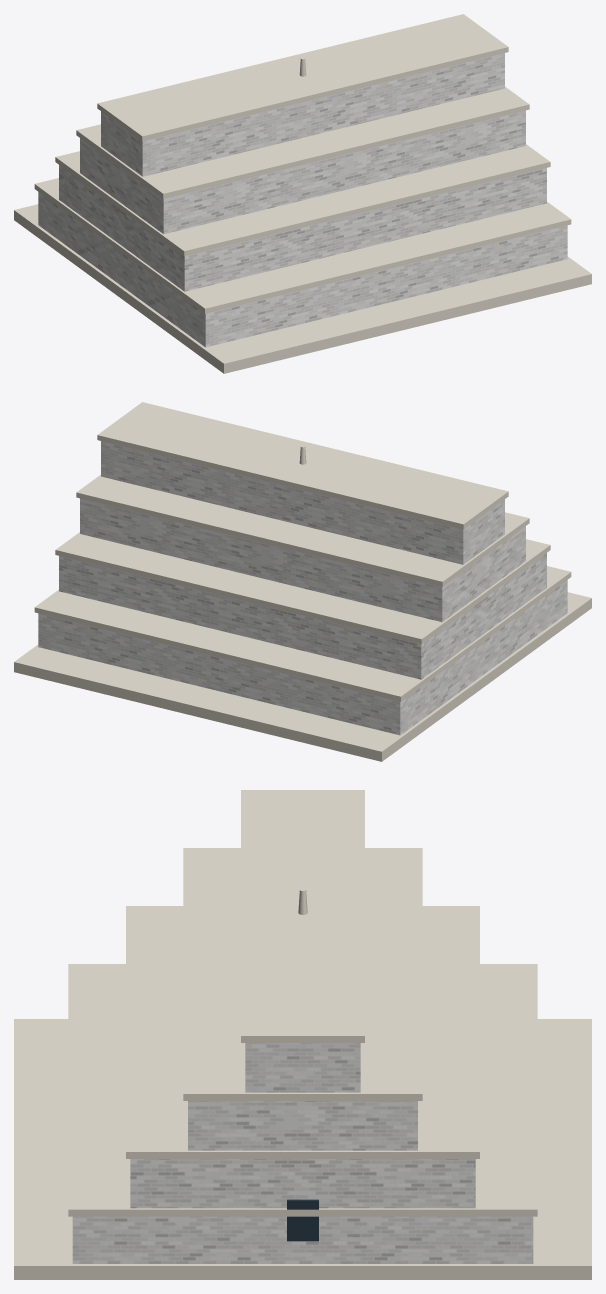
The model's file is roof-step-9.obj.
3 renders of one model, top to bottom at view 1: azimuth 30°, elevation 25°; view 2: azimuth 150°, elevation 25°; view 3: azimuth 270°, elevation 25°, orthographic. The views are drawn at different scales.
Visible parts, largest first — view 1: part9.nocast, part2, part4, part6, part1.nocast, part8, part3.nocast, part5.nocast, part7.nocast; view 2: part9.nocast, part2, part4, part6, part1.nocast, part8, part3.nocast, part5.nocast, part7.nocast; view 3: part1.nocast, part3.nocast, part5.nocast, part9.nocast, part7.nocast, part2, part4, part6, part8, part10.nocast.
Boxes of the visible parts, <box> form: part9.nocast: <box>97,14,508,141</box>; part2: <box>38,192,567,347</box>; part4: <box>59,165,546,291</box>; part6: <box>80,110,525,234</box>; part1.nocast: <box>14,204,591,373</box>; part8: <box>101,53,504,176</box>; part3.nocast: <box>34,178,571,313</box>; part5.nocast: <box>55,144,550,256</box>; part7.nocast: <box>76,87,529,198</box>; part9.nocast: <box>97,402,508,529</box>; part2: <box>38,580,567,735</box>; part4: <box>59,553,546,679</box>; part6: <box>80,498,525,622</box>; part1.nocast: <box>14,592,591,761</box>; part8: <box>101,441,504,564</box>; part3.nocast: <box>34,566,571,701</box>; part5.nocast: <box>55,532,550,644</box>; part7.nocast: <box>76,475,529,586</box>; part1.nocast: <box>14,1019,591,1279</box>; part3.nocast: <box>68,964,537,1216</box>; part5.nocast: <box>126,906,479,1158</box>; part9.nocast: <box>241,790,364,1042</box>; part7.nocast: <box>183,848,422,1100</box>; part2: <box>72,1216,533,1263</box>; part4: <box>130,1159,475,1208</box>; part6: <box>188,1101,417,1150</box>; part8: <box>245,1043,360,1092</box>; part10.nocast: <box>287,1199,318,1241</box>.
Bounding box in the file's own units: 9.14 × 4.6 × 9.04.
4 materials, 2 textured.
